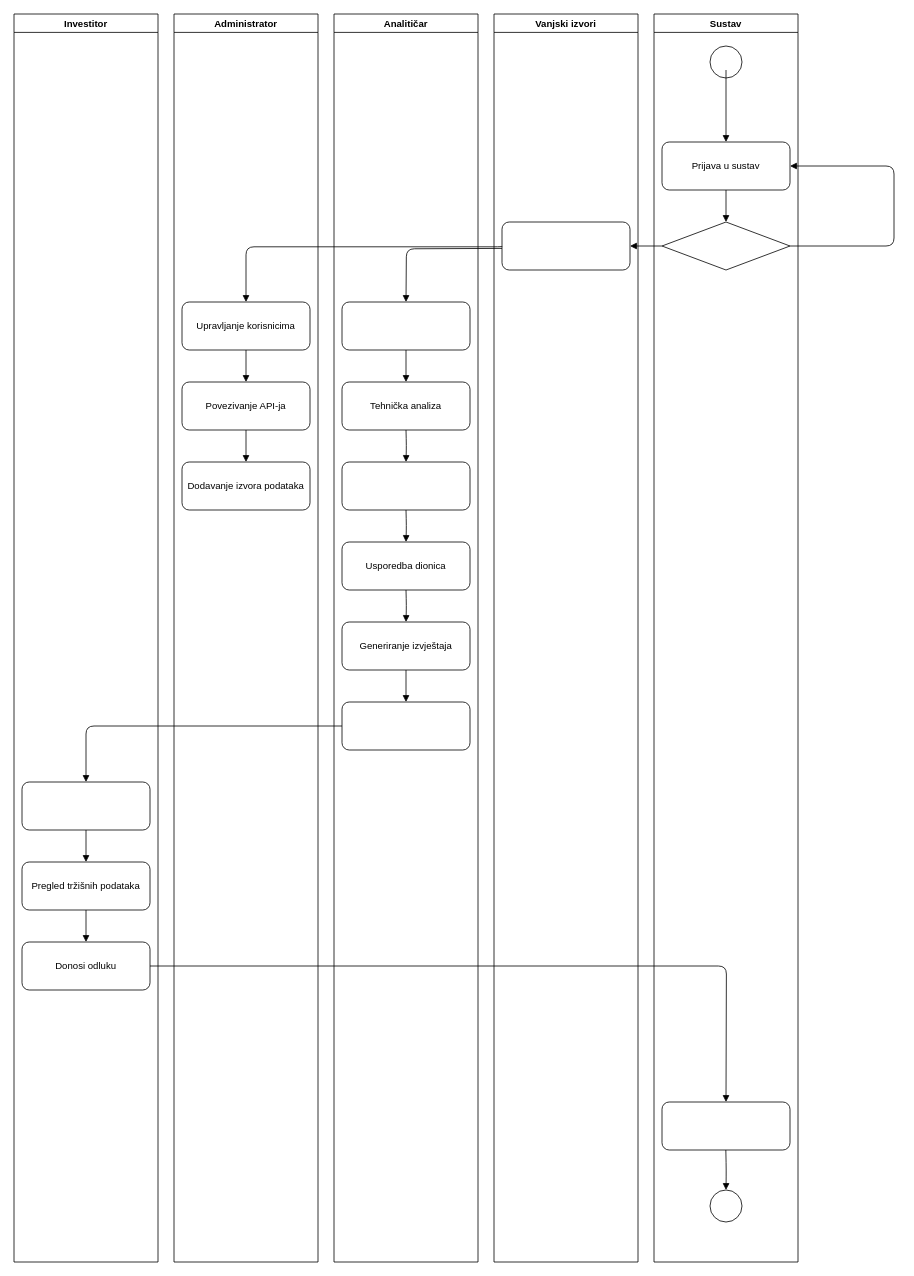
Image size: 914x1276. Some labels were removed from this diagram. Each missing label, with the centre of its shape:
"Dohvat cijena i volumena" goes at pixel 565 245.
"Odjava" goes at pixel 725 1125.
"Pregled preporuka" goes at pixel 85 805.
"Pristup analitičkom modulu" goes at pixel 405 325.
"Provjera vjerodajnica" goes at pixel 725 245.
"Slanje preporuke" goes at pixel 405 725.
"Temeljna analiza" goes at pixel 405 485.
